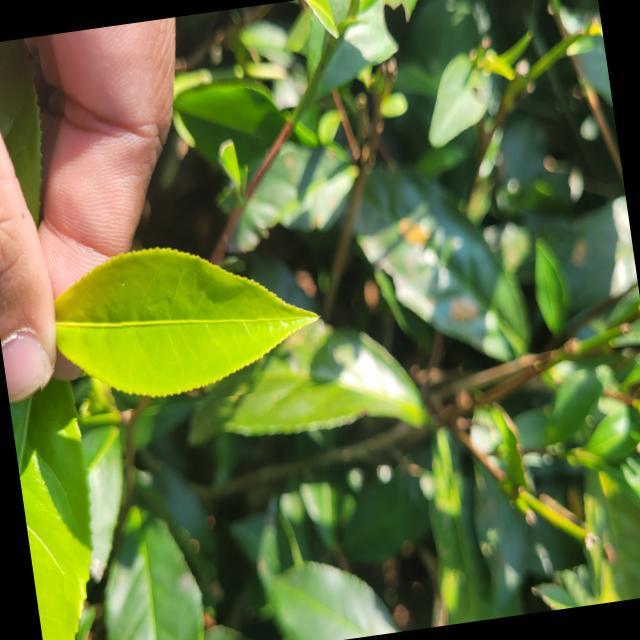Catagory A(1-2 days): (18, 218, 332, 422)
